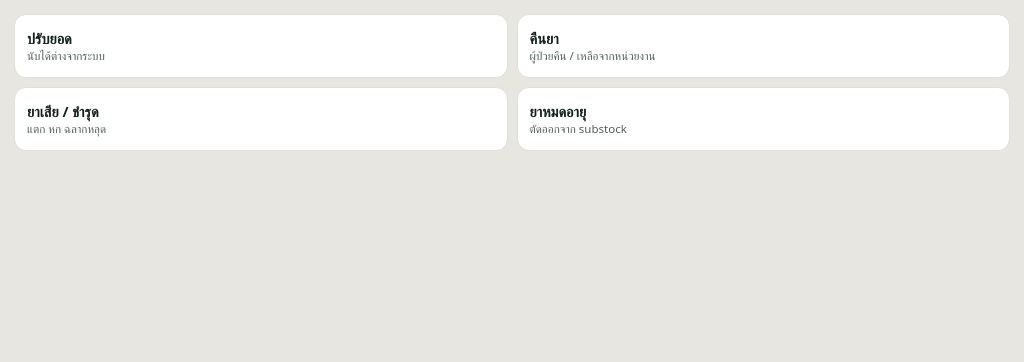
Test: AdjustScreen — คืนยา ทีละตัว/ทีละหลายตัว mode toggle regression › defaults to ทีละตัว, with no cart UI showing at all
Step 1. Click the button "คืนยา ผู้ป่วยคืน / เหลือจากหน่วยงาน" → (592, 56), box [516,14,1010,78]
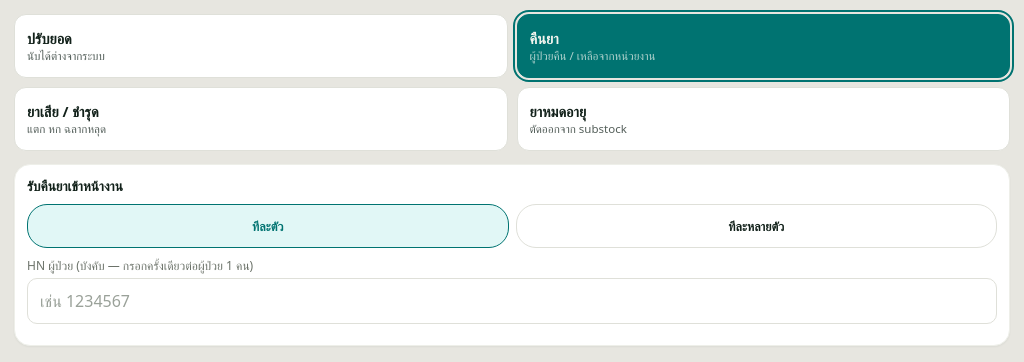
Now the button "ทีละตัว" is shown, box [27,204,508,248]
Now the button "ทีละหลายตัว" is shown, box [516,204,997,248]
